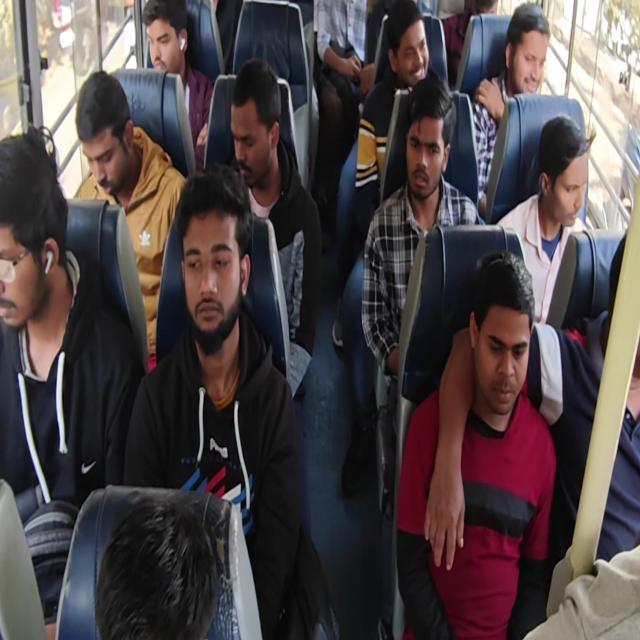person: (98, 491, 227, 640), (0, 130, 69, 336), (172, 176, 248, 340), (470, 259, 540, 403), (71, 78, 133, 190), (129, 0, 193, 85), (225, 87, 277, 191), (543, 125, 589, 232), (503, 9, 554, 104), (388, 7, 432, 84), (407, 101, 442, 195)
